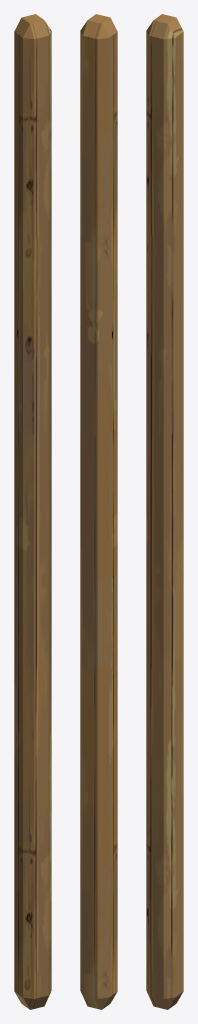
Rendered from wood_deco2_cute.glb.
3 views of the same model, side by side, from view 1: azimuth 30°, elevation 25°; view 2: azimuth 150°, elevation 25°; view 3: azimuth 330°, elevation 25° (orthographic).
Parts seen in each view (by area): view 1: wood_deco3; view 2: wood_deco3; view 3: wood_deco3.
Boxes of the visible parts, left/top/right/bottom form: wood_deco3: left=14, top=14, right=51, bottom=1009; wood_deco3: left=80, top=14, right=117, bottom=1009; wood_deco3: left=146, top=14, right=183, bottom=1009.
Size of the model in its own units: 0.048 by 1.57 by 0.0497.
Materials: 1 (1 with a texture image).
